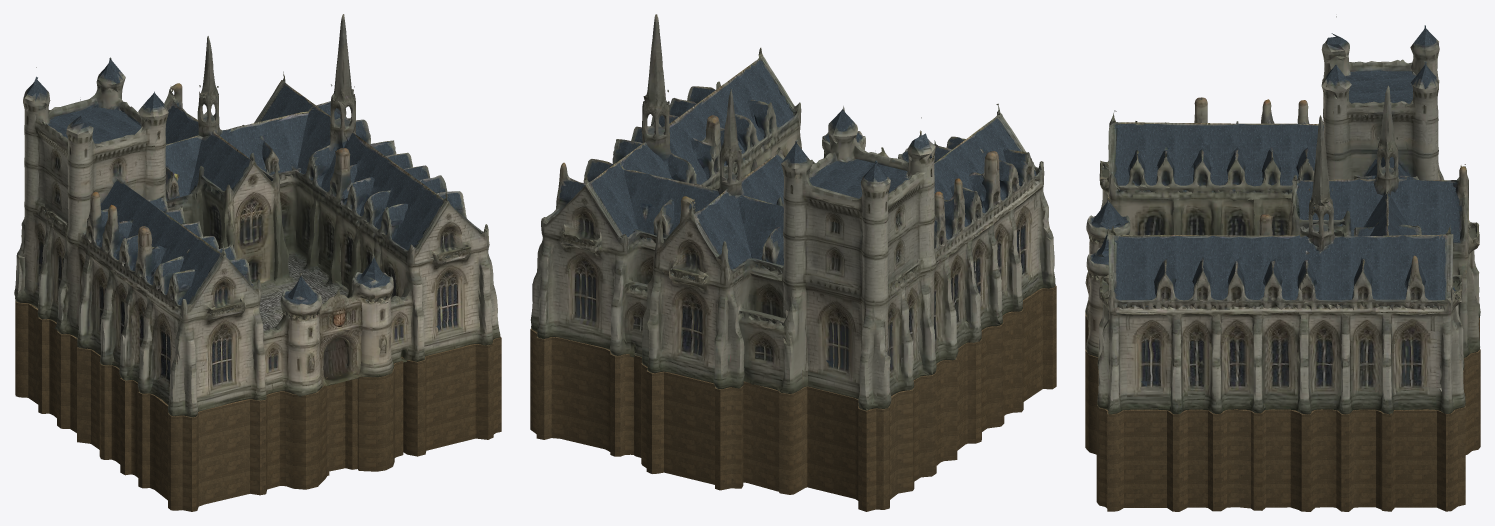
The model's file is palace_b.glb.
The picture shows the model from 3 angles, left to right: view 1: azimuth 30°, elevation 25°; view 2: azimuth 150°, elevation 25°; view 3: azimuth 270°, elevation 25°; orthographic projection. The views are drawn at different scales.
Parts seen in each view (by area): view 1: palace_b_export; view 2: palace_b_export; view 3: palace_b_export.
Boxes of the visible parts, <box> form: palace_b_export: <box>14,14,501,511</box>; palace_b_export: <box>530,14,1056,511</box>; palace_b_export: <box>1085,16,1480,511</box>.
Size of the model in its own units: 67.78 by 69.84 by 68.
3 materials, 3 textured.
